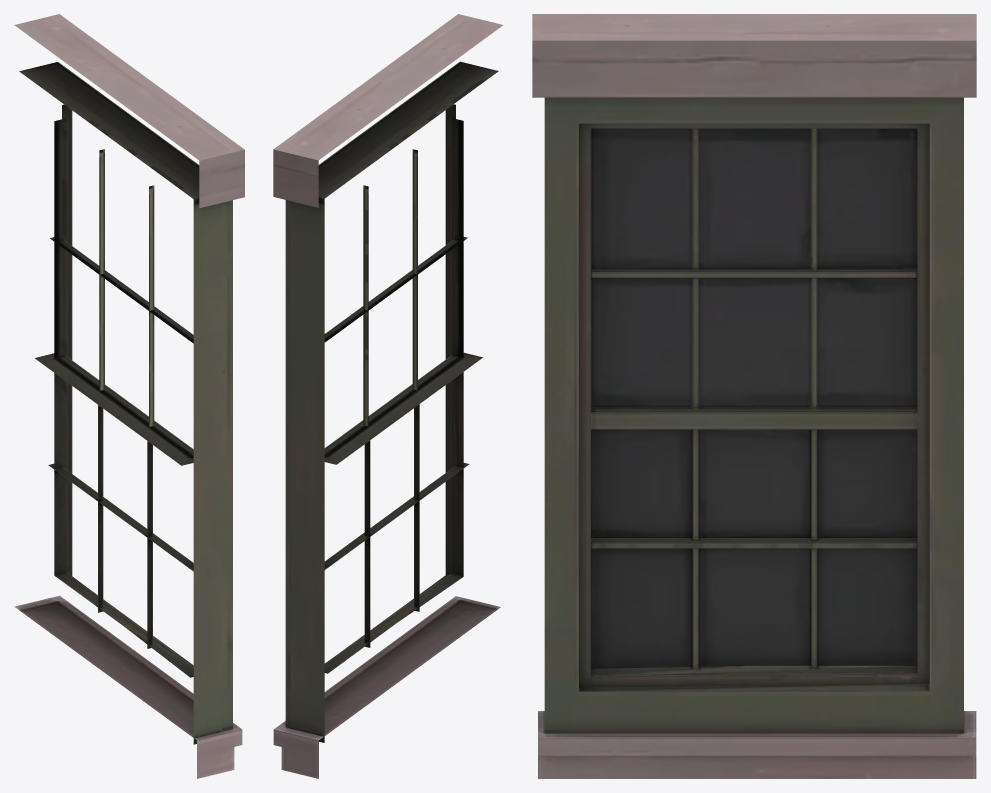
3 renders of one model, left to right at view 1: azimuth 30°, elevation 25°; view 2: azimuth 150°, elevation 25°; view 3: azimuth 270°, elevation 25°, orthographic. The views are drawn at different scales.
Visible parts, largest first — view 1: body0_model0_lod0_mesh0; view 2: body0_model0_lod0_mesh0; view 3: body0_model0_lod0_mesh0.
Boxes of the visible parts, left/top/right/bottom form: body0_model0_lod0_mesh0: left=14, top=14, right=244, bottom=778; body0_model0_lod0_mesh0: left=273, top=14, right=502, bottom=778; body0_model0_lod0_mesh0: left=532, top=14, right=976, bottom=778.
Size of the model in its own units: 10.09 by 130 by 70.55.
Materials: 1 (1 with a texture image).
